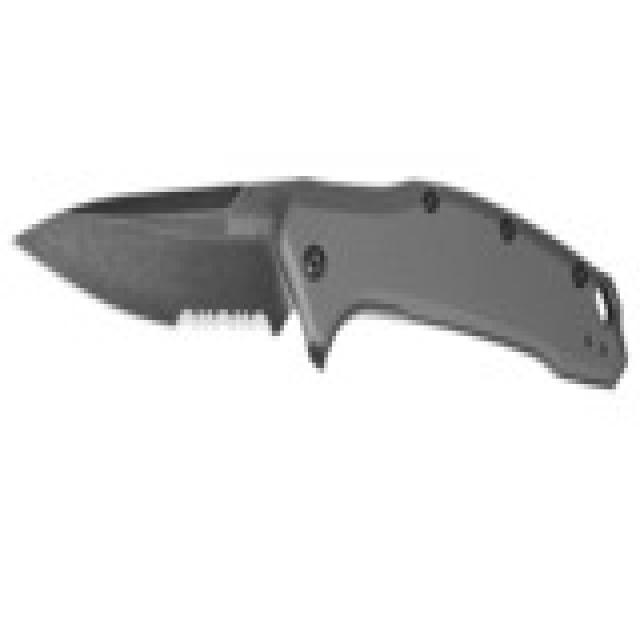Knife: (15, 156, 628, 410)
